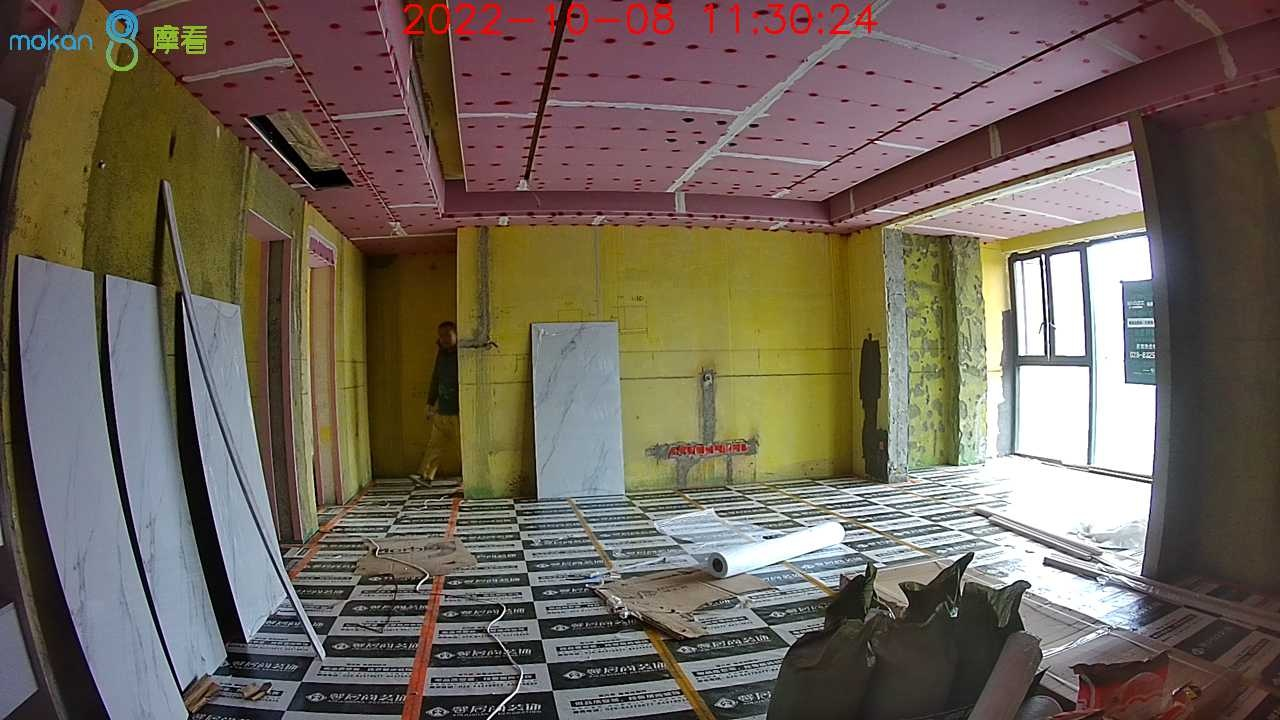people: (410, 320, 459, 487)
window: (1007, 233, 1158, 477)
